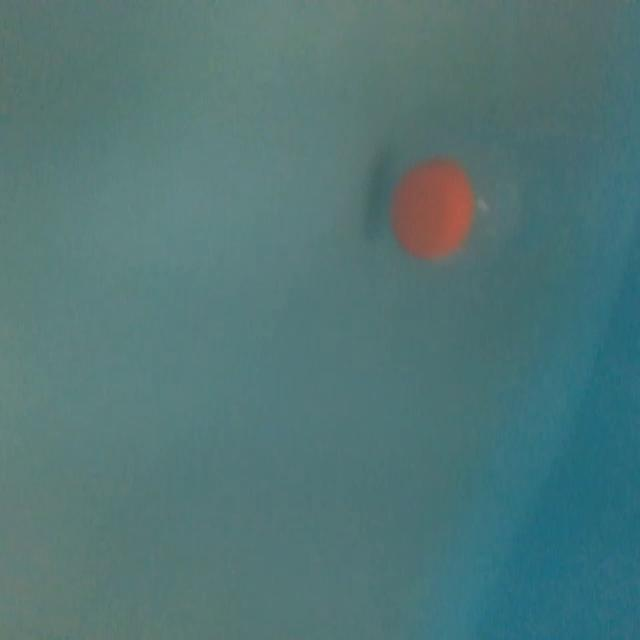plastic bottle: (383, 73, 597, 266)
